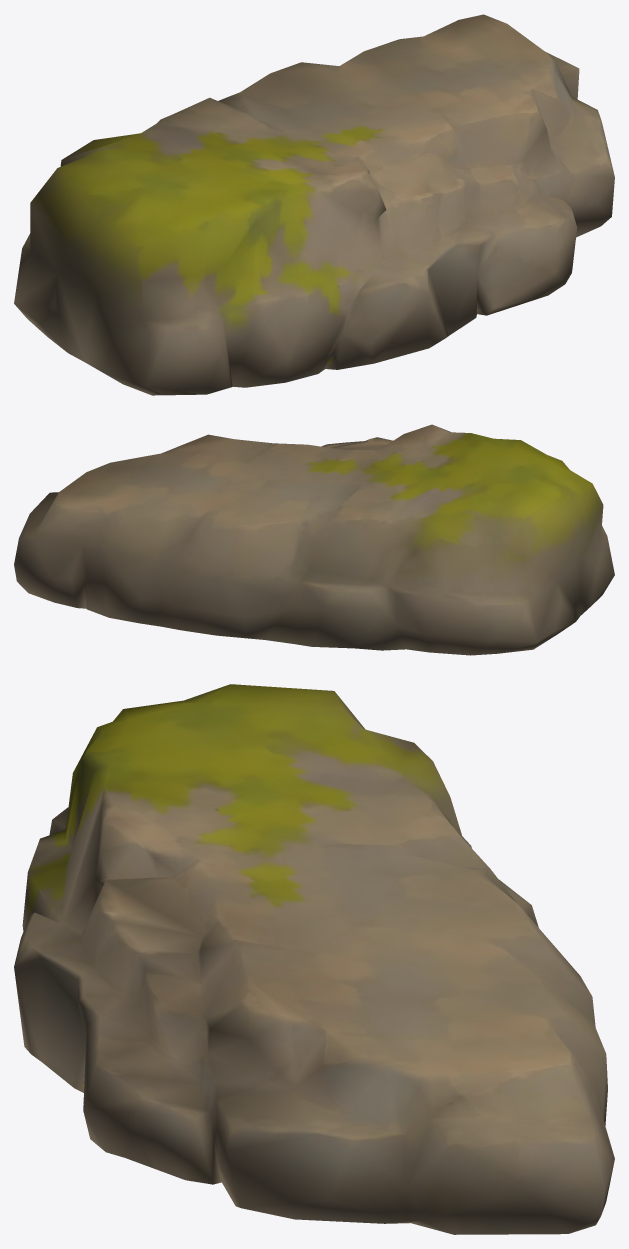
The model's file is SM_FR_RockFlat.fbx.
The picture shows the model from 3 angles, top to bottom: view 1: azimuth 30°, elevation 25°; view 2: azimuth 150°, elevation 25°; view 3: azimuth 270°, elevation 25°; orthographic projection. The views are drawn at different scales.
Visible parts, largest first — view 1: SM_FR_RockFlat; view 2: SM_FR_RockFlat; view 3: SM_FR_RockFlat.
Boxes of the visible parts, <box> form: SM_FR_RockFlat: <box>14,14,614,395</box>; SM_FR_RockFlat: <box>14,424,614,655</box>; SM_FR_RockFlat: <box>14,684,614,1234</box>.
Bounding box in the file's own units: 3 × 0.7926 × 2.04.
Materials: 1 (1 with a texture image).
